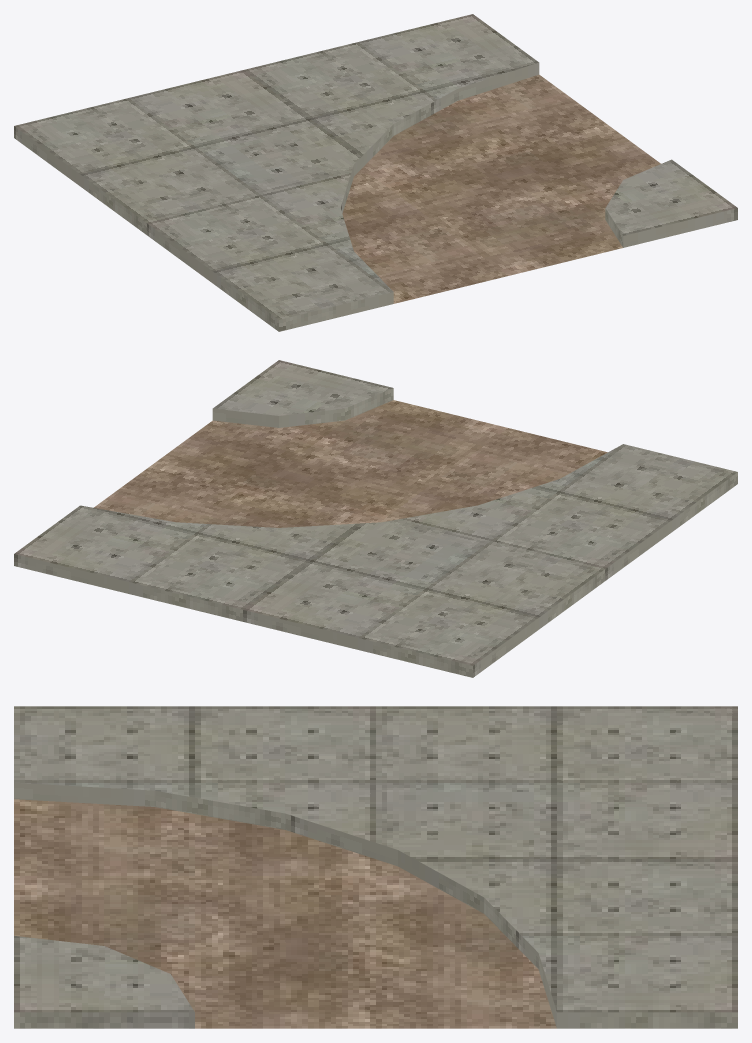
Rendered from road-dirt-corner.glb.
The picture shows the model from 3 angles, top to bottom: view 1: azimuth 30°, elevation 25°; view 2: azimuth 150°, elevation 25°; view 3: azimuth 270°, elevation 25°; orthographic projection. The views are drawn at different scales.
Parts seen in each view (by area): view 1: road-dirt-corner; view 2: road-dirt-corner; view 3: road-dirt-corner.
Part boxes in pixels (box(x1,y1,x2,y2)): road-dirt-corner: box(14, 14, 737, 331); road-dirt-corner: box(14, 360, 737, 677); road-dirt-corner: box(14, 706, 737, 1028).
Size of the model in its own units: 2 by 0.0501 by 2.
3 materials, 3 textured.
